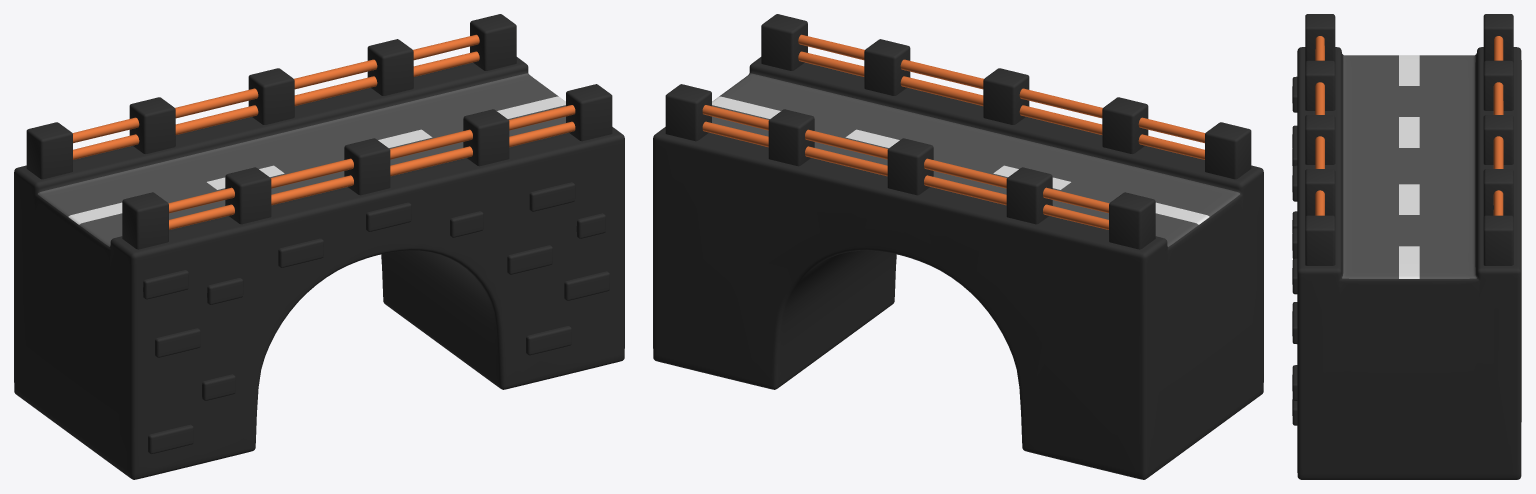
The model's file is bridge-3d-icon-1390808986892.glb.
The picture shows the model from 3 angles, left to right: view 1: azimuth 30°, elevation 25°; view 2: azimuth 150°, elevation 25°; view 3: azimuth 270°, elevation 25°; orthographic projection. The views are drawn at different scales.
Visible parts, largest first — view 1: Bridge, Road, Railing, Road Mark; view 2: Bridge, Road, Railing, Road Mark; view 3: Bridge, Road, Road Mark, Railing.
Boxes of the visible parts, box(x1,y1,x2,y2) form: Bridge: box(14, 14, 624, 479); Road: box(38, 73, 565, 246); Railing: box(72, 34, 575, 229); Road Mark: box(68, 96, 565, 224); Bridge: box(653, 14, 1263, 479); Road: box(712, 73, 1239, 246); Railing: box(702, 34, 1205, 229); Road Mark: box(712, 96, 1209, 224); Bridge: box(1292, 14, 1521, 479); Road: box(1342, 55, 1476, 278); Road Mark: box(1399, 55, 1419, 278); Railing: box(1315, 36, 1503, 215).
Size of the model in its own units: 1.98 by 1.02 by 0.8537.
